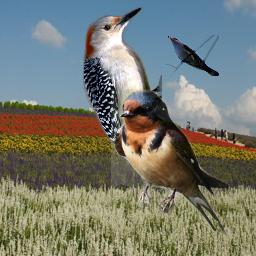Cuckoo: (166, 35, 219, 76)
Swallow: (111, 89, 228, 237)
Woodpecker: (83, 7, 162, 170)
